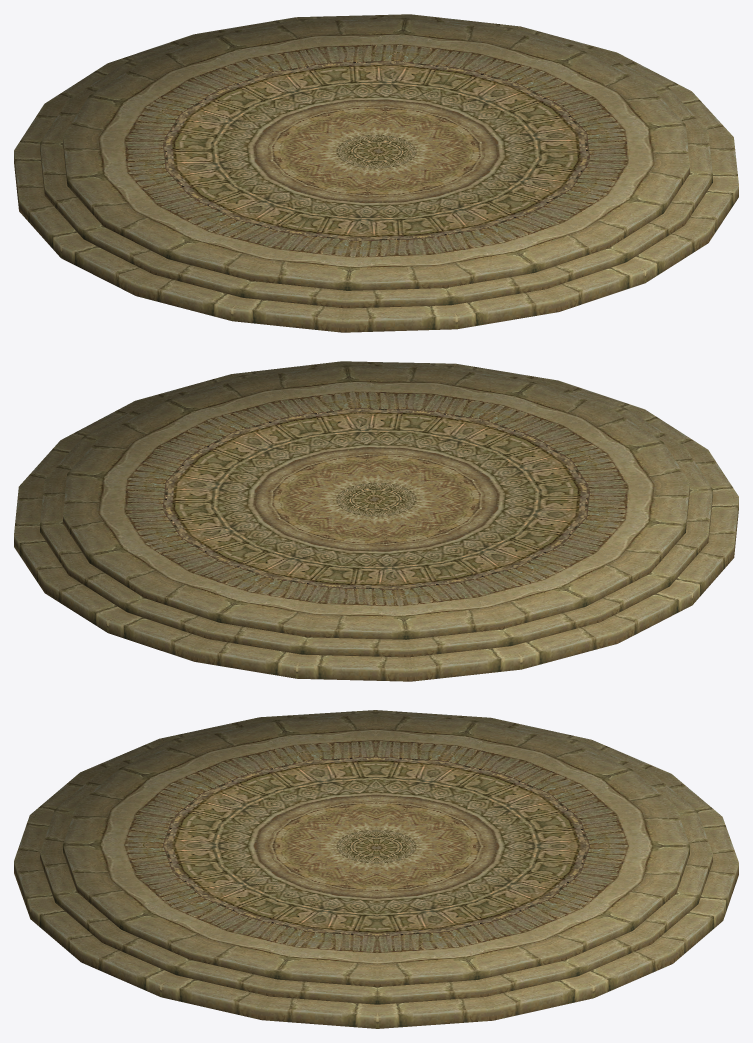
The model's file is S_Build_Wilderness007.FBX.
3 renders of one model, top to bottom at view 1: azimuth 30°, elevation 25°; view 2: azimuth 150°, elevation 25°; view 3: azimuth 270°, elevation 25°, orthographic.
Visible parts, largest first — view 1: S_Build_Wilderness007; view 2: S_Build_Wilderness007; view 3: S_Build_Wilderness007.
Boxes of the visible parts, <box> form: S_Build_Wilderness007: <box>14,14,738,332</box>; S_Build_Wilderness007: <box>14,361,738,681</box>; S_Build_Wilderness007: <box>14,710,738,1028</box>.
Bounding box in the file's own units: 1092 × 1093 × 52.26.
